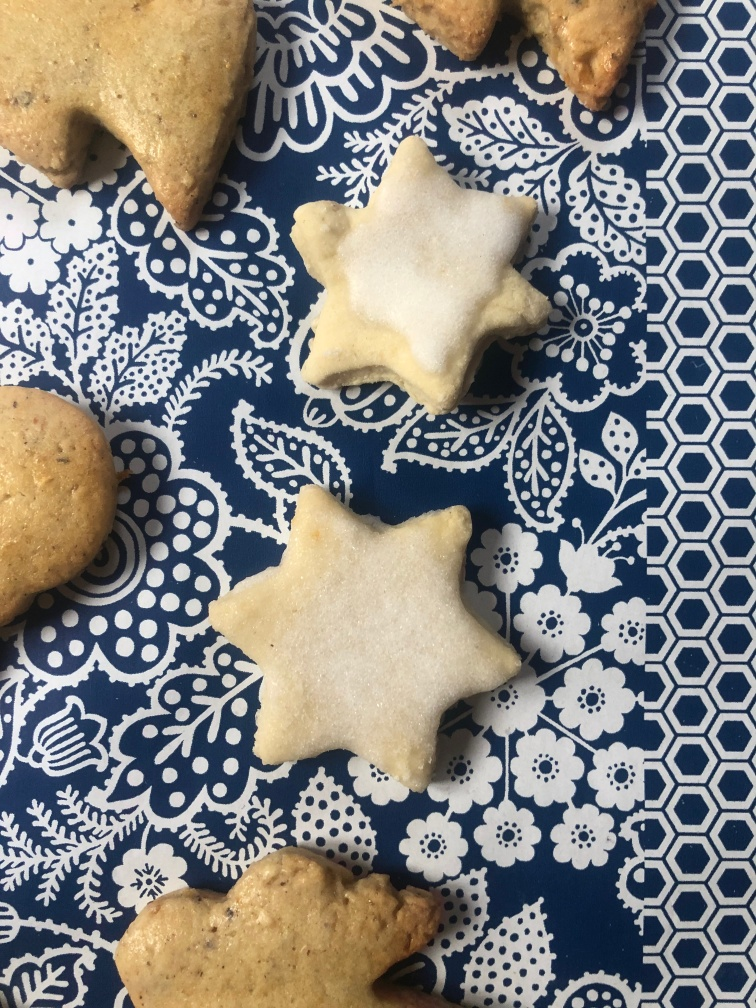star: (203, 477, 520, 775), (285, 128, 553, 411)
